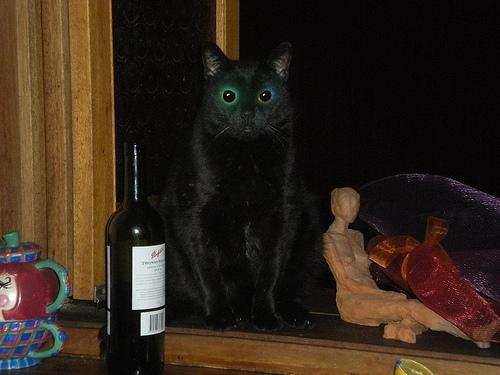lemon: (394, 359, 434, 375)
